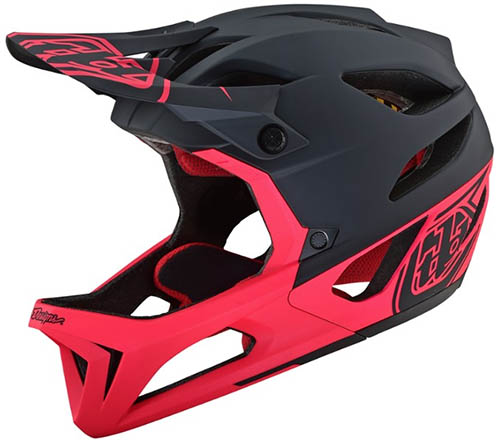with_helmet: (3, 1, 500, 440)
